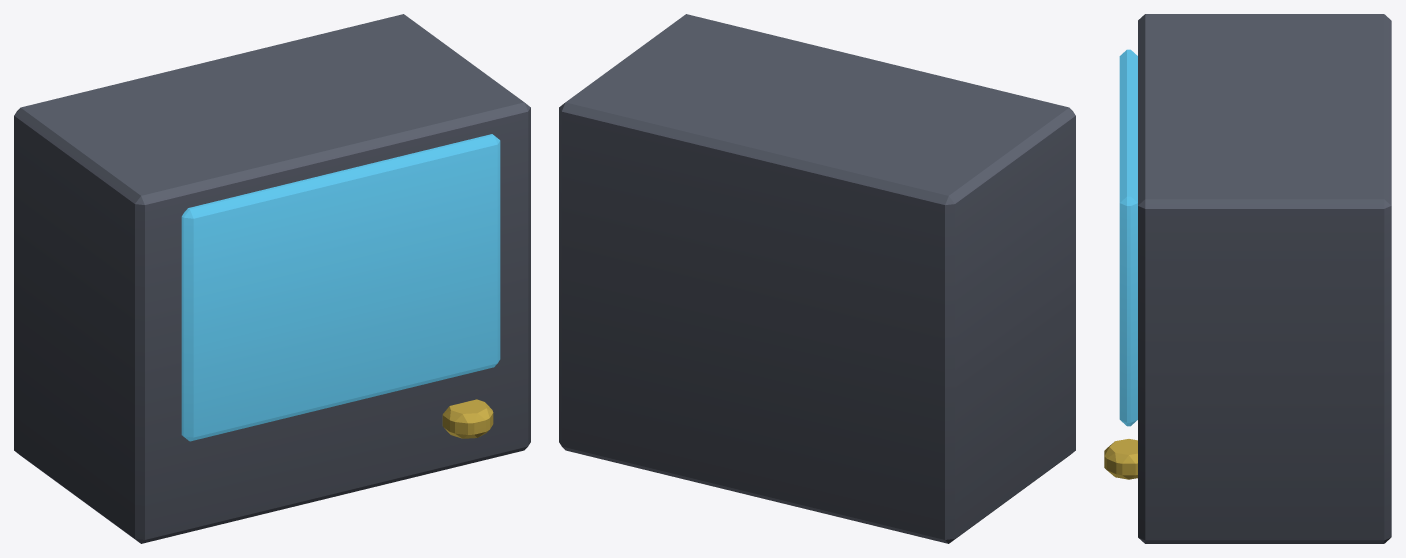
The model's file is vitals_console.glb.
3 renders of one model, left to right at view 1: azimuth 30°, elevation 25°; view 2: azimuth 150°, elevation 25°; view 3: azimuth 270°, elevation 25°, orthographic.
Visible parts, largest first — view 1: vitals_console-convcol; view 2: vitals_console-convcol; view 3: vitals_console-convcol.
Part boxes in pixels (box(x1,y1,x2,y2)): vitals_console-convcol: box(14, 14, 530, 543); vitals_console-convcol: box(559, 14, 1075, 543); vitals_console-convcol: box(1104, 14, 1391, 543).
Size of the model in its own units: 0.5 by 0.42 by 0.3169.
Materials: 2 (2 with a texture image).
